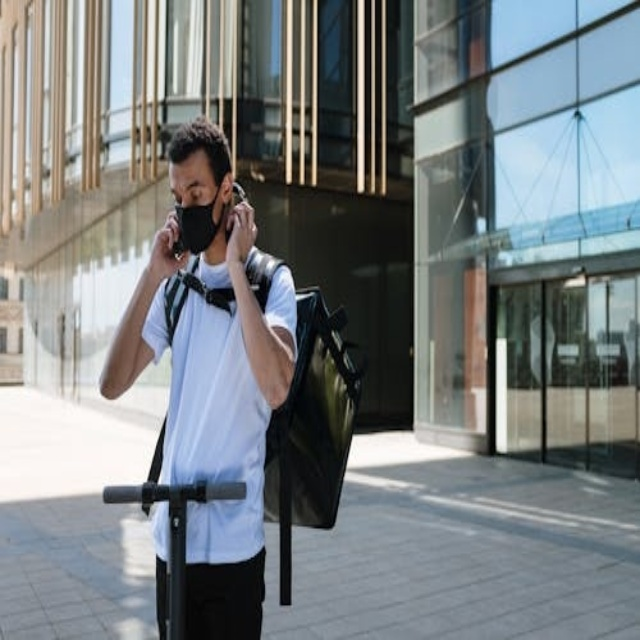Gafas: (171, 178, 246, 255)
Sin_gafas: (166, 175, 211, 208)
Sin_guantes: (225, 196, 264, 279), (146, 215, 182, 286)
